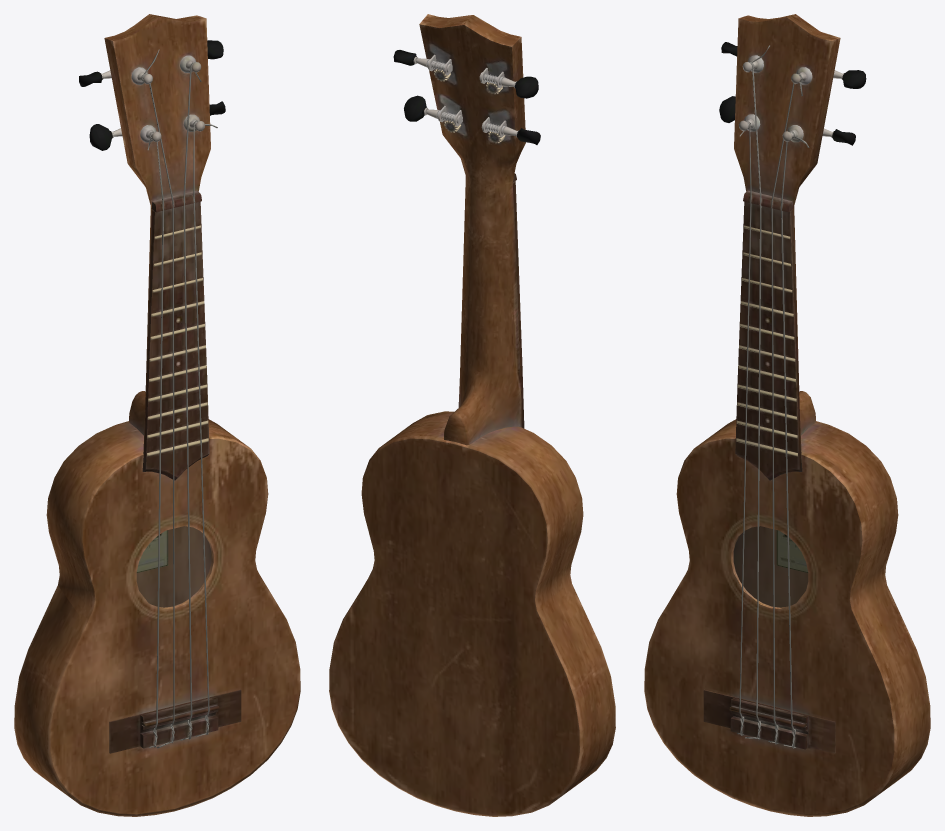
Rendered from ukulele.glb.
The picture shows the model from 3 angles, left to right: view 1: azimuth 30°, elevation 25°; view 2: azimuth 150°, elevation 25°; view 3: azimuth 330°, elevation 25°; orthographic projection.
Visible parts, largest first — view 1: Ukulele_01; view 2: Ukulele_01; view 3: Ukulele_01.
Part boxes in pixels (x1,y1,x2,y2): Ukulele_01: [14, 14, 300, 816]; Ukulele_01: [329, 14, 615, 816]; Ukulele_01: [644, 14, 930, 816].
Bounding box in the file's own units: 0.1779 × 0.527 × 0.0508.
1 material, 1 textured.
